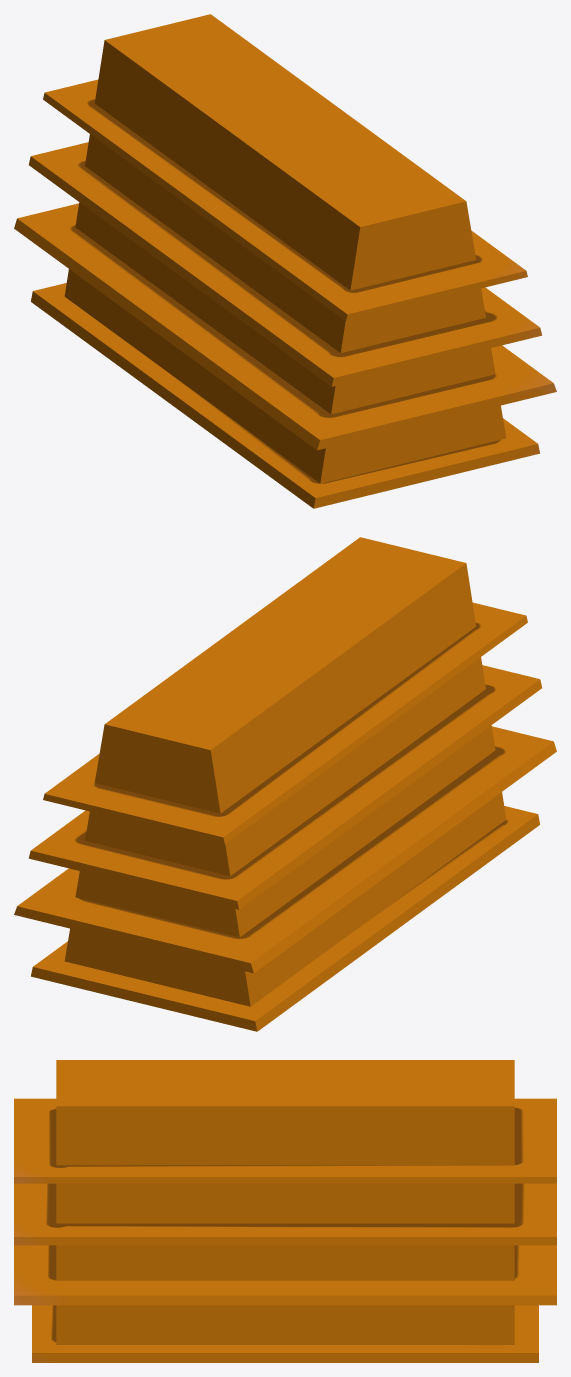
The model's file is Shelf_Low.fbx.
The picture shows the model from 3 angles, top to bottom: view 1: azimuth 30°, elevation 25°; view 2: azimuth 150°, elevation 25°; view 3: azimuth 270°, elevation 25°; orthographic projection. The views are drawn at different scales.
Visible parts, largest first — view 1: Shelf_Low; view 2: Shelf_Low; view 3: Shelf_Low.
Boxes of the visible parts, x1,y1,x2,y2 form: Shelf_Low: (14, 14, 556, 508); Shelf_Low: (14, 537, 556, 1031); Shelf_Low: (14, 1060, 556, 1362).
Bounding box in the file's own units: 78.84 × 80.7 × 172.
